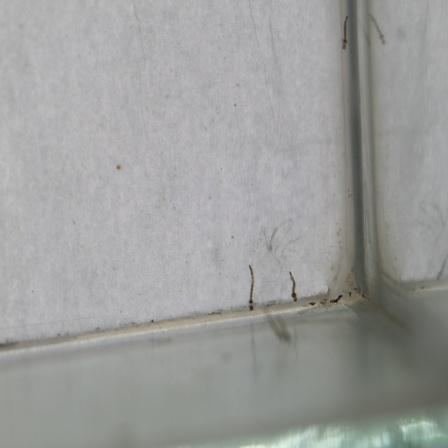Jentik-Nyamuk: (243, 261, 258, 312), (286, 267, 301, 304)
